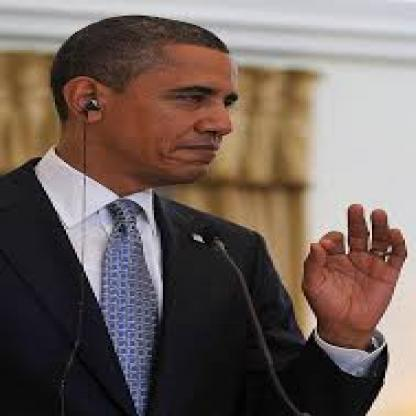ok: (290, 200, 407, 336)
